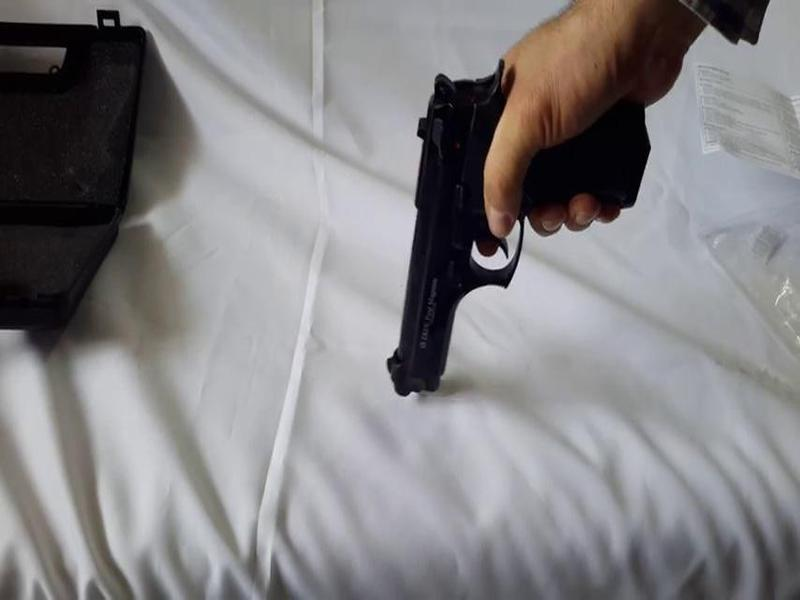Pistola: (383, 58, 691, 411)
